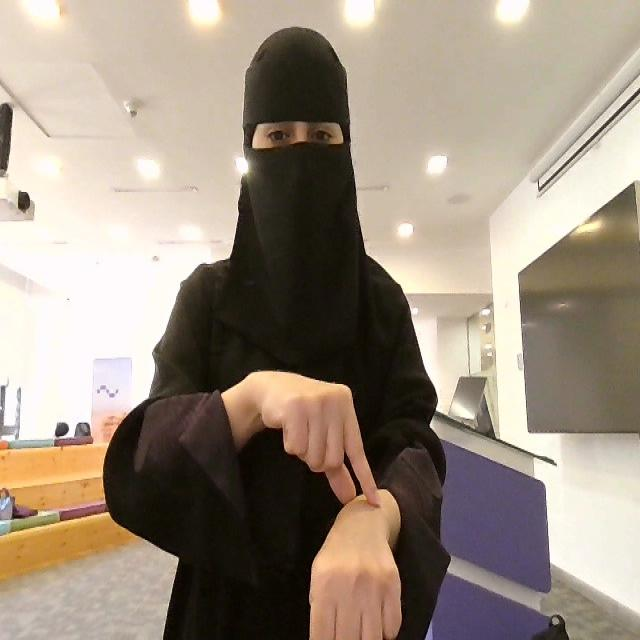appointment: (237, 364, 405, 640)
